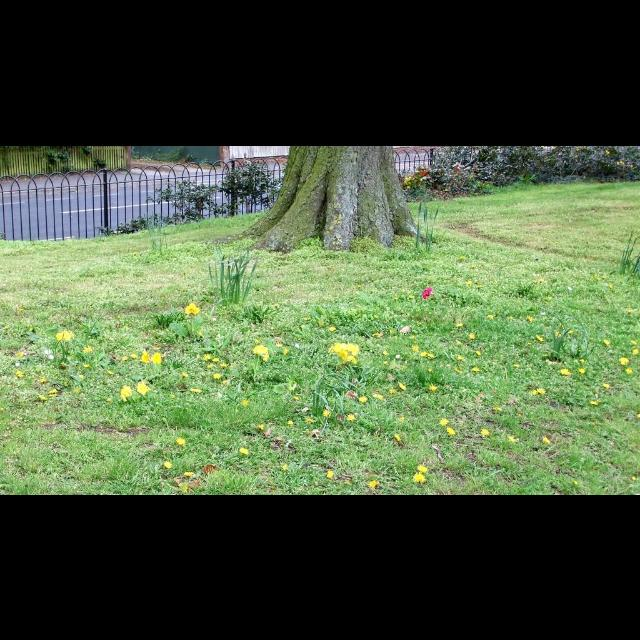Flower: (326, 341, 358, 363), (253, 344, 269, 358), (55, 328, 73, 340), (120, 382, 132, 400), (136, 382, 150, 396), (186, 301, 200, 315), (412, 471, 426, 483), (80, 345, 94, 355), (367, 479, 379, 489), (417, 464, 427, 476), (422, 286, 432, 298), (534, 387, 546, 397), (175, 436, 185, 446), (151, 354, 159, 366), (140, 352, 148, 362), (164, 459, 172, 469), (322, 410, 330, 420), (392, 432, 400, 442), (481, 428, 489, 438), (506, 435, 516, 443), (561, 368, 571, 376), (618, 357, 628, 365), (191, 388, 203, 394), (202, 354, 212, 361), (373, 392, 381, 400), (398, 382, 406, 390), (441, 418, 449, 426), (240, 448, 250, 454), (540, 438, 550, 444), (212, 373, 220, 379), (326, 471, 332, 479), (346, 414, 354, 420), (429, 386, 437, 392), (448, 426, 454, 434), (456, 352, 462, 360), (470, 331, 476, 339), (579, 366, 585, 374), (626, 367, 632, 375), (632, 348, 640, 354), (359, 396, 366, 402), (604, 338, 610, 344), (182, 371, 186, 379), (219, 364, 227, 368), (453, 368, 461, 372), (456, 322, 464, 326), (212, 358, 218, 362), (472, 367, 478, 371), (579, 358, 583, 362)
